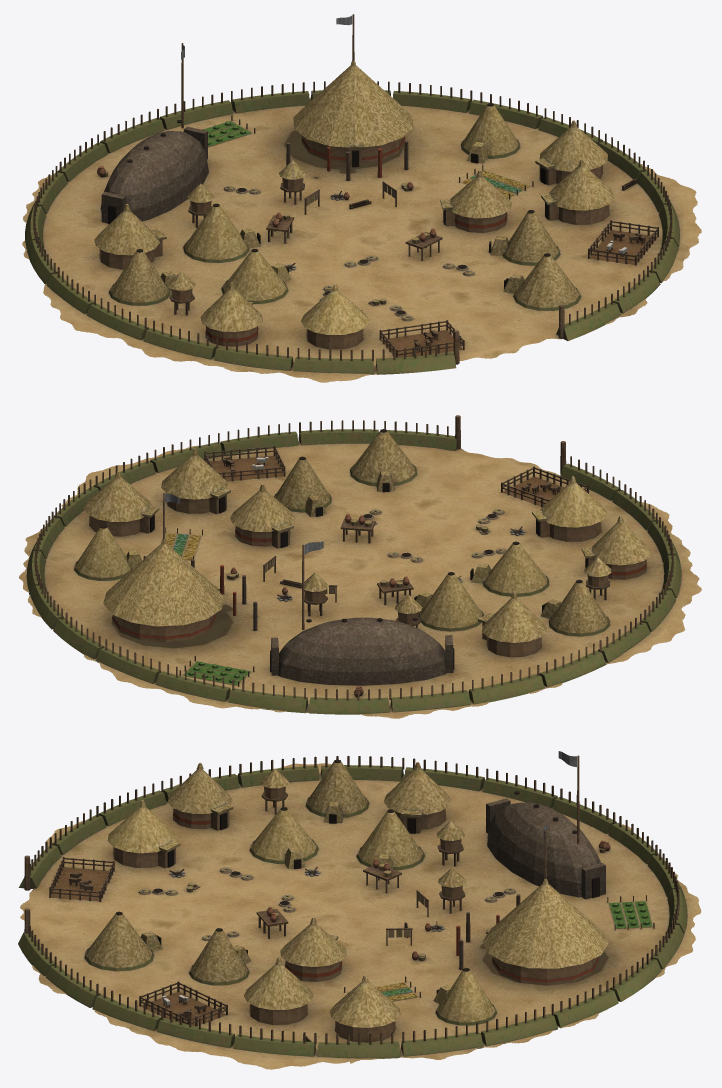
The model's file is stone-town-medium-b-sinic.glb.
The picture shows the model from 3 angles, top to bottom: view 1: azimuth 30°, elevation 25°; view 2: azimuth 150°, elevation 25°; view 3: azimuth 270°, elevation 25°; orthographic projection. The views are drawn at different scales.
Visible parts, largest first — view 1: LOD0; view 2: LOD0; view 3: LOD0.
Boxes of the visible parts, left/top/right/bottom form: LOD0: left=22, top=14, right=701, bottom=382; LOD0: left=19, top=415, right=701, bottom=718; LOD0: left=18, top=751, right=701, bottom=1069.
Size of what is drawn, in the model's own units: 6.08 by 1.23 by 5.7.
3 materials, 3 textured.
